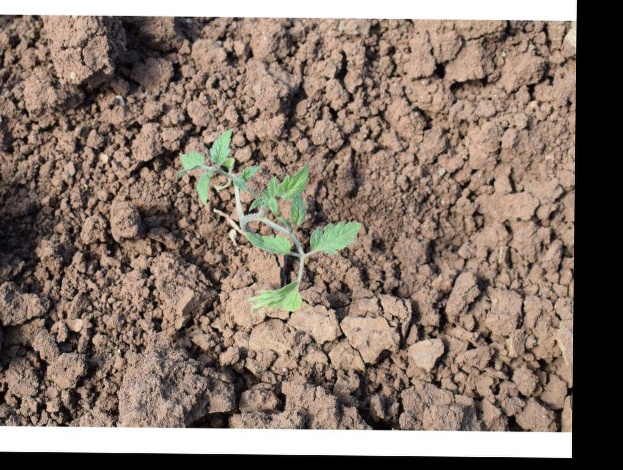tomato: (179, 129, 360, 312)
